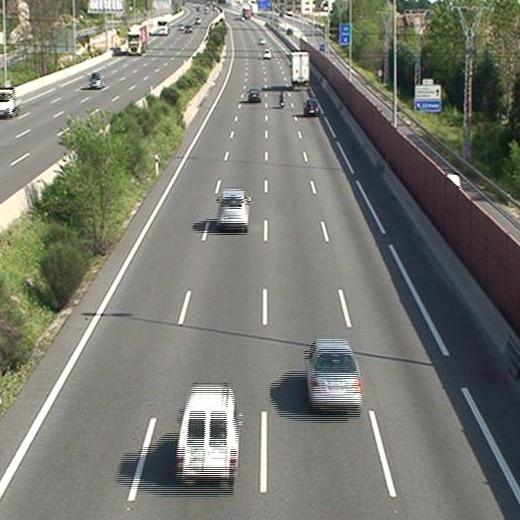car: (307, 342, 361, 411), (217, 190, 249, 229), (304, 98, 319, 115), (248, 88, 260, 103), (262, 50, 271, 58)
motorcycle: (278, 89, 286, 108)
small-truck: (289, 50, 309, 90)
van: (176, 384, 239, 479)
